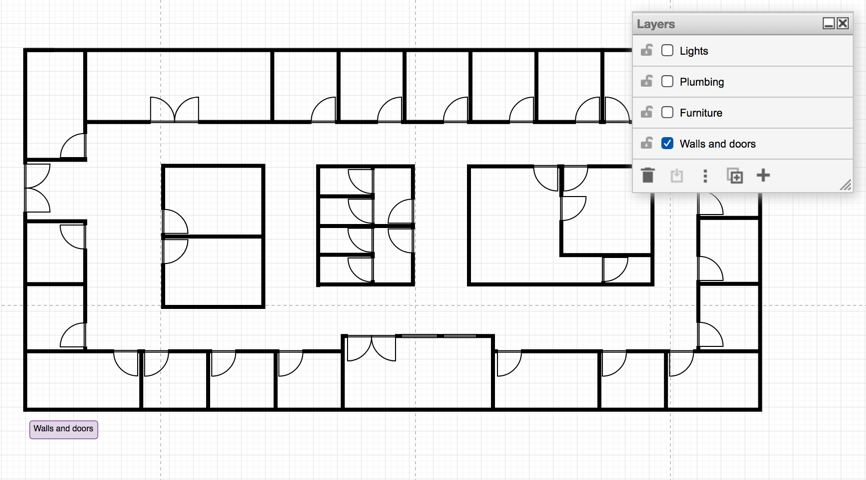door: (341, 329, 408, 370), (45, 319, 109, 353), (143, 84, 206, 117), (666, 331, 700, 386), (273, 339, 310, 388), (144, 202, 197, 236), (596, 338, 631, 386), (27, 163, 57, 216), (150, 237, 196, 269), (140, 341, 175, 383), (496, 341, 530, 384), (380, 229, 433, 256), (207, 344, 241, 386), (569, 90, 602, 133), (337, 256, 389, 283), (690, 247, 727, 284), (109, 340, 140, 383), (384, 198, 429, 226), (693, 318, 730, 352), (595, 252, 635, 281), (553, 193, 589, 225), (344, 197, 383, 225), (343, 229, 385, 254), (505, 94, 537, 126), (50, 223, 81, 256), (342, 168, 381, 193), (371, 90, 402, 121), (442, 92, 467, 124), (306, 94, 336, 119)
